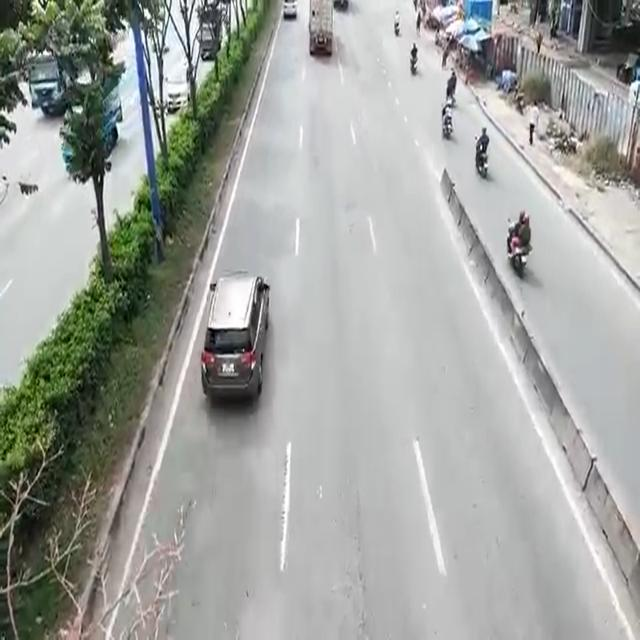car: (204, 269, 270, 406)
motorbike: (509, 215, 528, 285), (472, 136, 488, 176), (440, 107, 450, 146)
